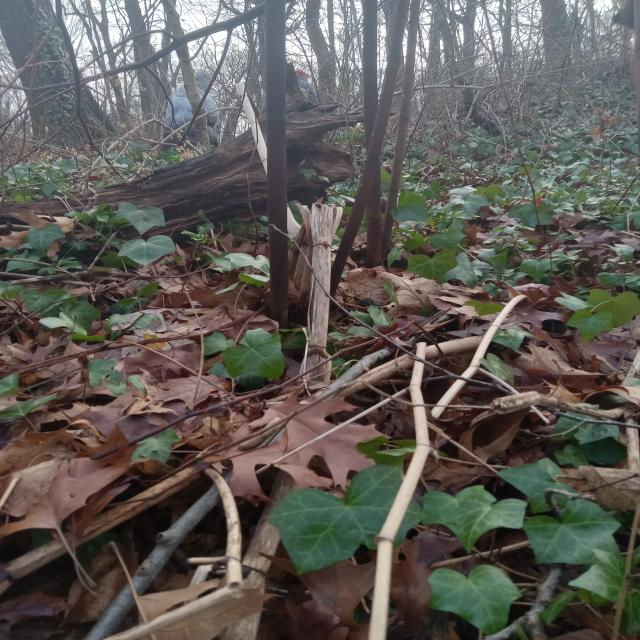knotweed-stems: (338, 4, 422, 264), (365, 340, 433, 638), (259, 0, 288, 323), (298, 200, 343, 388)
tree trunks: (1, 0, 117, 155)
